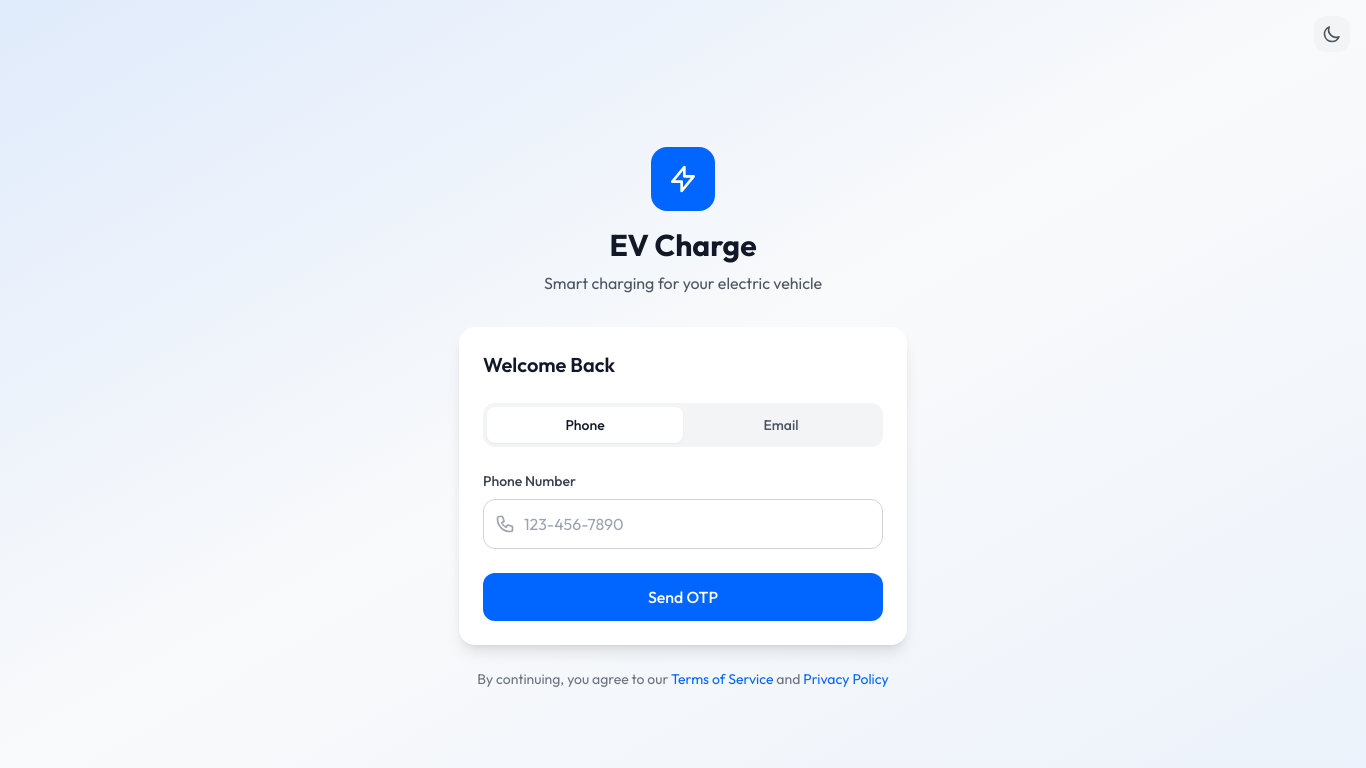
Test: Login Component › shows error for invalid email
Note: Switch to email by clicking the Email tab
Click the button "Email" at (781,425), box [683, 407, 879, 443]
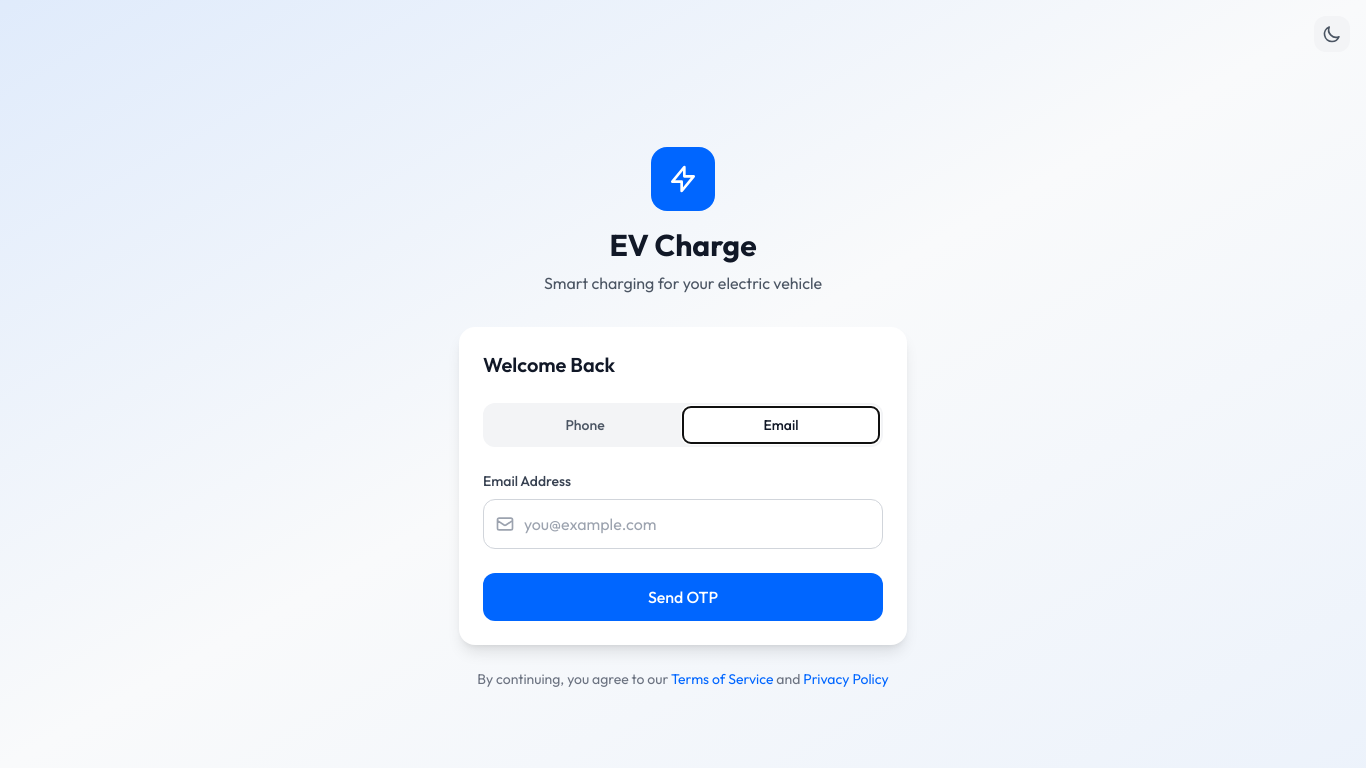
Type "invalidemail" into the field labelled "Email Address" at (683,524), box [483, 499, 883, 549]
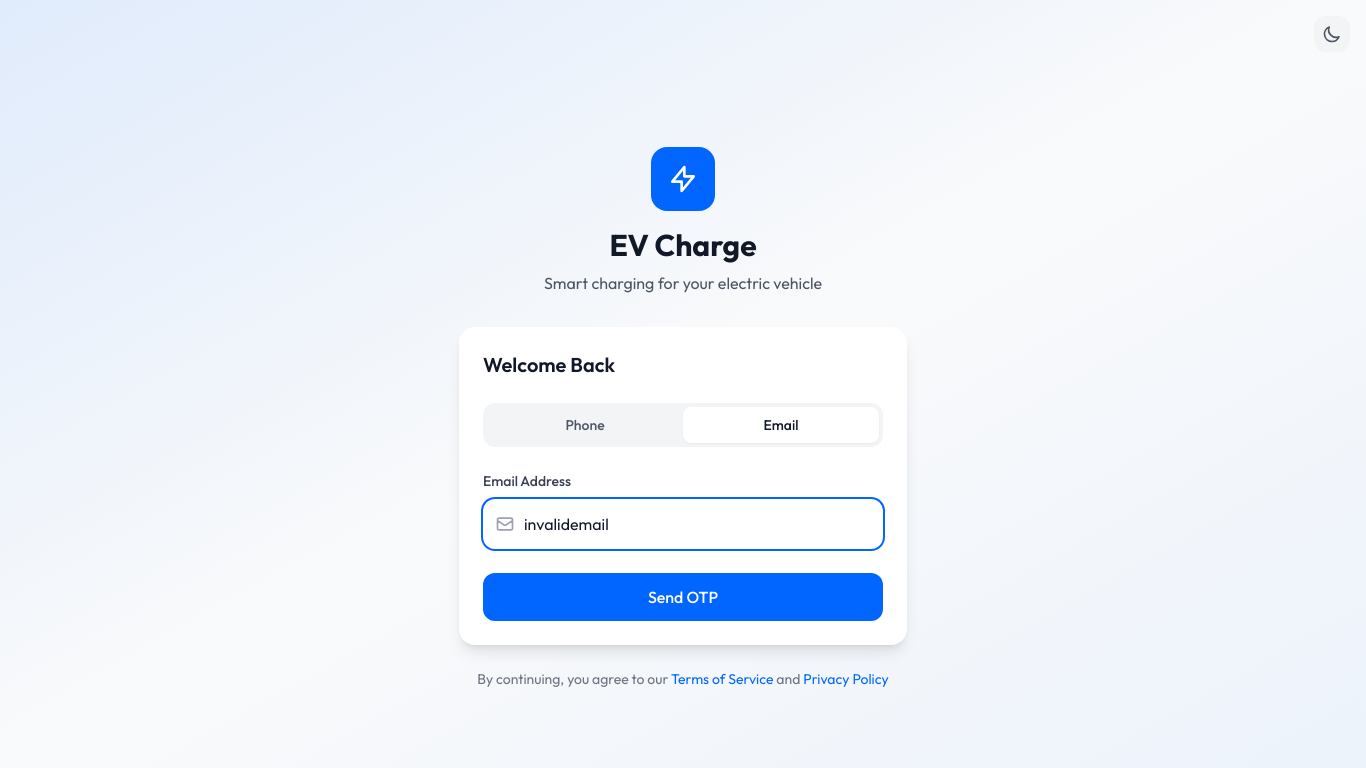
Note: Submit the form
Submit the form labelled "Phone Email Email Address Send OTP", box [483, 403, 883, 621]
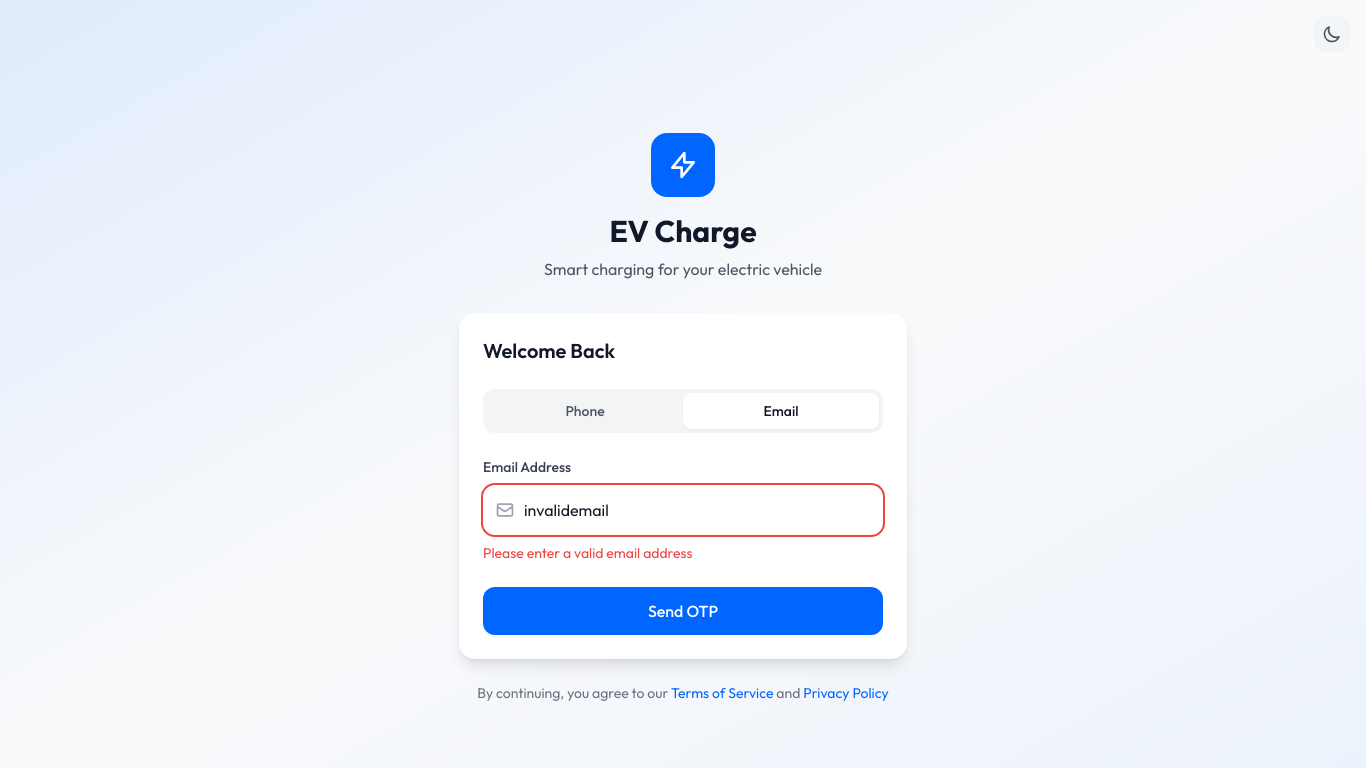
expect the message shows "Please enter a valid email": met, box [483, 544, 692, 562]
